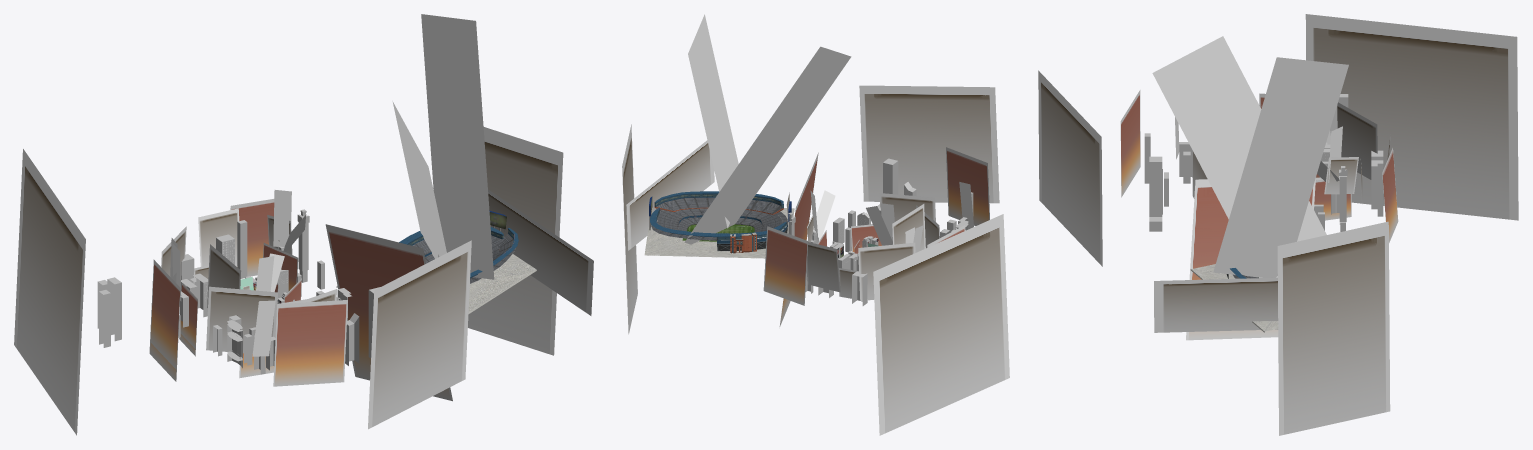
The model's file is NFLCity04.fbx.
3 renders of one model, left to right at view 1: azimuth 30°, elevation 25°; view 2: azimuth 150°, elevation 25°; view 3: azimuth 270°, elevation 25°, orthographic. The views are drawn at different scales.
Visible parts, largest first — view 1: NFLCity_Effects_Lights, NFLCity_Effects_Lights_ANIM_03_Light1, NFLCity_Buildings, NFLCity_Stadium_Base, NFLCity_Effects_Lights_ANIM_03_Light2, NFLCity_Effects_Lights_ANIM_01_Light2; view 2: NFLCity_Effects_Lights, NFLCity_Effects_Lights_ANIM_03_Light2, NFLCity_Stadium_Base, NFLCity_Effects_Lights_ANIM_03_Light1, NFLCity_Buildings, NFLCity_Effects_Lights_ANIM_01_Light1, NFLCity_Effects_Lights_ANIM_02_Light1; view 3: NFLCity_Effects_Lights, NFLCity_Effects_Lights_ANIM_03_Light1, NFLCity_Effects_Lights_ANIM_03_Light2, NFLCity_Buildings, NFLCity_Stadium_Base.
Part boxes in pixels (x1,y1,x2,y2): NFLCity_Effects_Lights: (14, 127, 593, 435); NFLCity_Effects_Lights_ANIM_03_Light1: (421, 14, 494, 279); NFLCity_Buildings: (97, 209, 380, 374); NFLCity_Stadium_Base: (336, 210, 536, 314); NFLCity_Effects_Lights_ANIM_03_Light2: (392, 101, 446, 258); NFLCity_Effects_Lights_ANIM_01_Light2: (273, 190, 291, 246); NFLCity_Effects_Lights: (622, 85, 1009, 435); NFLCity_Effects_Lights_ANIM_03_Light2: (684, 46, 851, 244); NFLCity_Stadium_Base: (644, 191, 794, 258); NFLCity_Effects_Lights_ANIM_03_Light1: (688, 14, 738, 228); NFLCity_Buildings: (788, 158, 973, 305); NFLCity_Effects_Lights_ANIM_01_Light1: (813, 190, 835, 240); NFLCity_Effects_Lights_ANIM_02_Light1: (866, 206, 892, 245); NFLCity_Effects_Lights: (1038, 14, 1518, 435); NFLCity_Effects_Lights_ANIM_03_Light1: (1213, 57, 1348, 277); NFLCity_Effects_Lights_ANIM_03_Light2: (1152, 36, 1326, 277); NFLCity_Buildings: (1144, 94, 1383, 231); NFLCity_Stadium_Base: (1190, 264, 1278, 332).
Size of the model in its own units: 2784 by 2006 by 2556.
